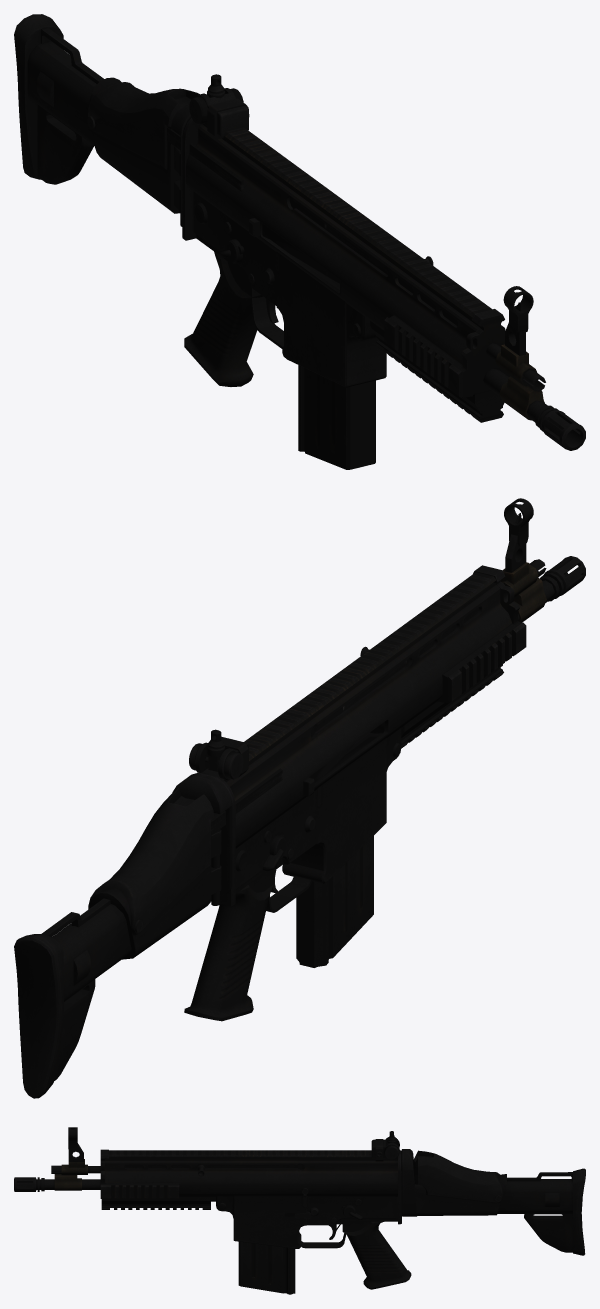
The model's file is SCAR H.FBX.
3 views of the same model, one above another, from view 1: azimuth 30°, elevation 25°; view 2: azimuth 150°, elevation 25°; view 3: azimuth 270°, elevation 25° (orthographic). The views are drawn at different scales.
Parts seen in each view (by area): view 1: Mesh_0004, MAG, Mesh_0006; view 2: Mesh_0004, MAG, Mesh_0006; view 3: Mesh_0004, MAG, Mesh_0006.
Part boxes in pixels (x1,y1,x2,y2): Mesh_0004: (14, 14, 585, 450); MAG: (298, 365, 375, 469); Mesh_0006: (189, 74, 533, 356); Mesh_0004: (14, 556, 585, 1098); MAG: (296, 836, 373, 967); Mesh_0006: (189, 498, 533, 779); Mesh_0004: (14, 1149, 585, 1289); MAG: (238, 1241, 295, 1294); Mesh_0006: (68, 1127, 399, 1161).
Bounding box in the file's own units: 5.74 × 25.33 × 80.28.
